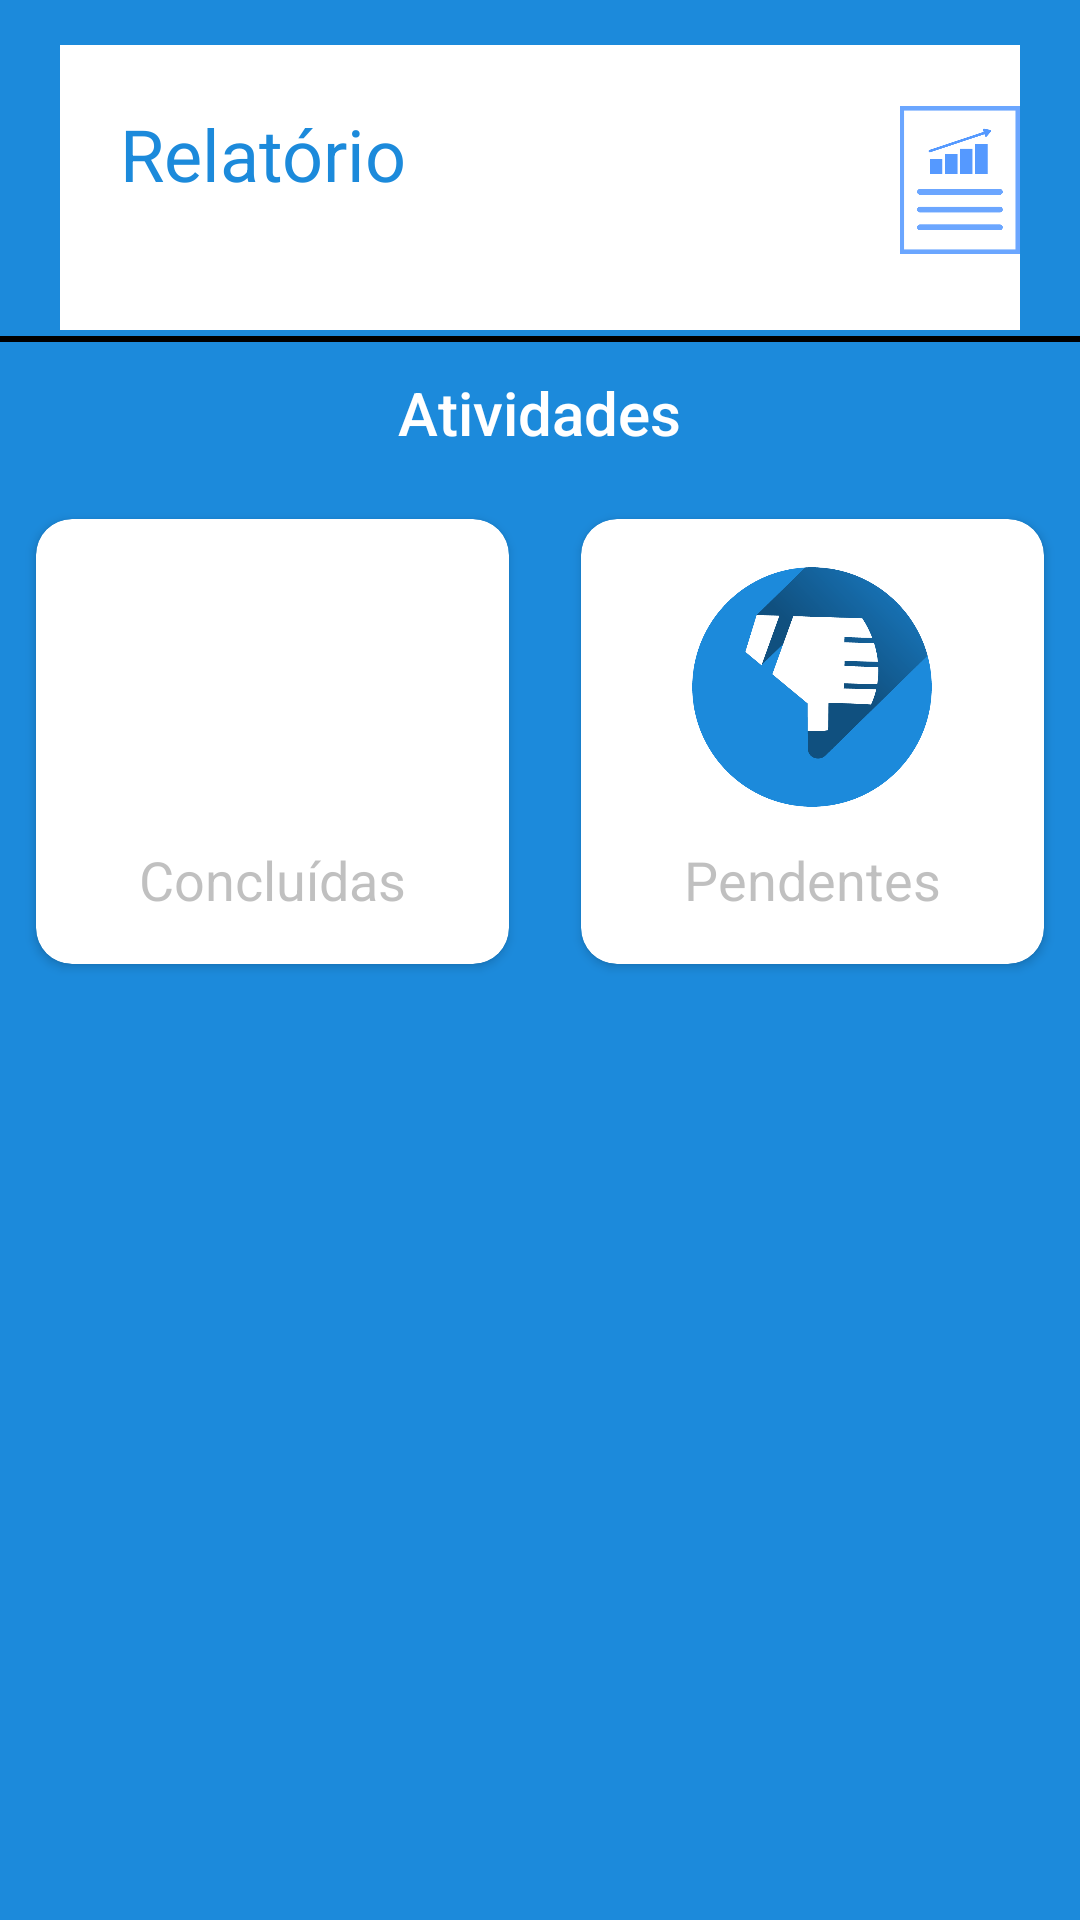

Locate icon controls on the screen. Image size 1080×1920, boxes as {"x1": x1, "y1": y1, "x2": x2, "y2": y2}.
graph: {"x1": 917, "y1": 129, "x2": 1003, "y2": 230}
